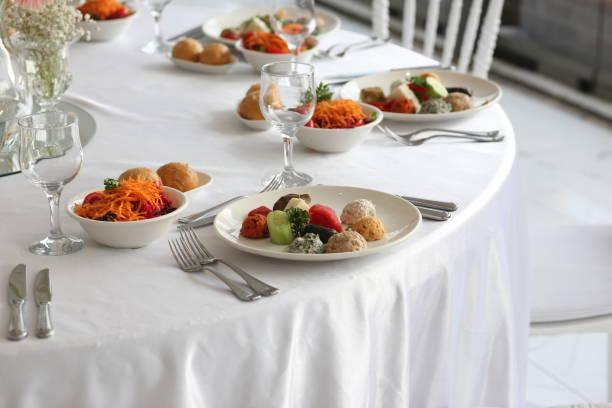Braised Crucian Carp: (214, 184, 422, 260), (66, 166, 187, 248), (342, 68, 498, 123), (285, 96, 385, 154)
